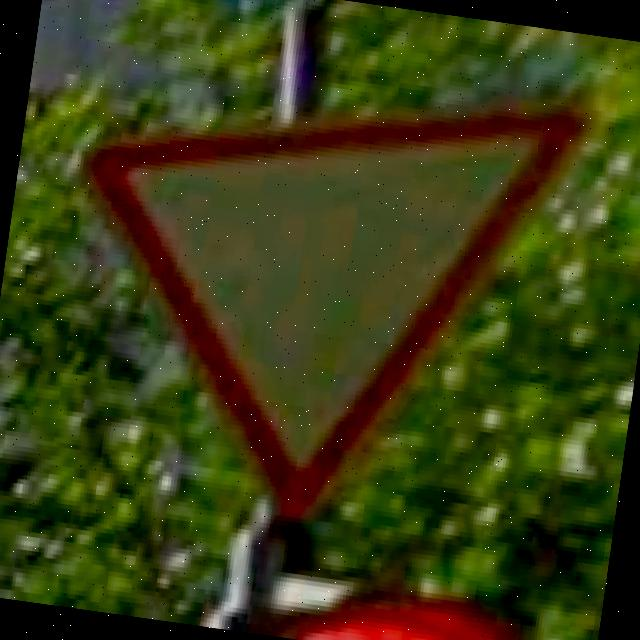Ustap pierwszenstwa: (36, 31, 597, 551)
